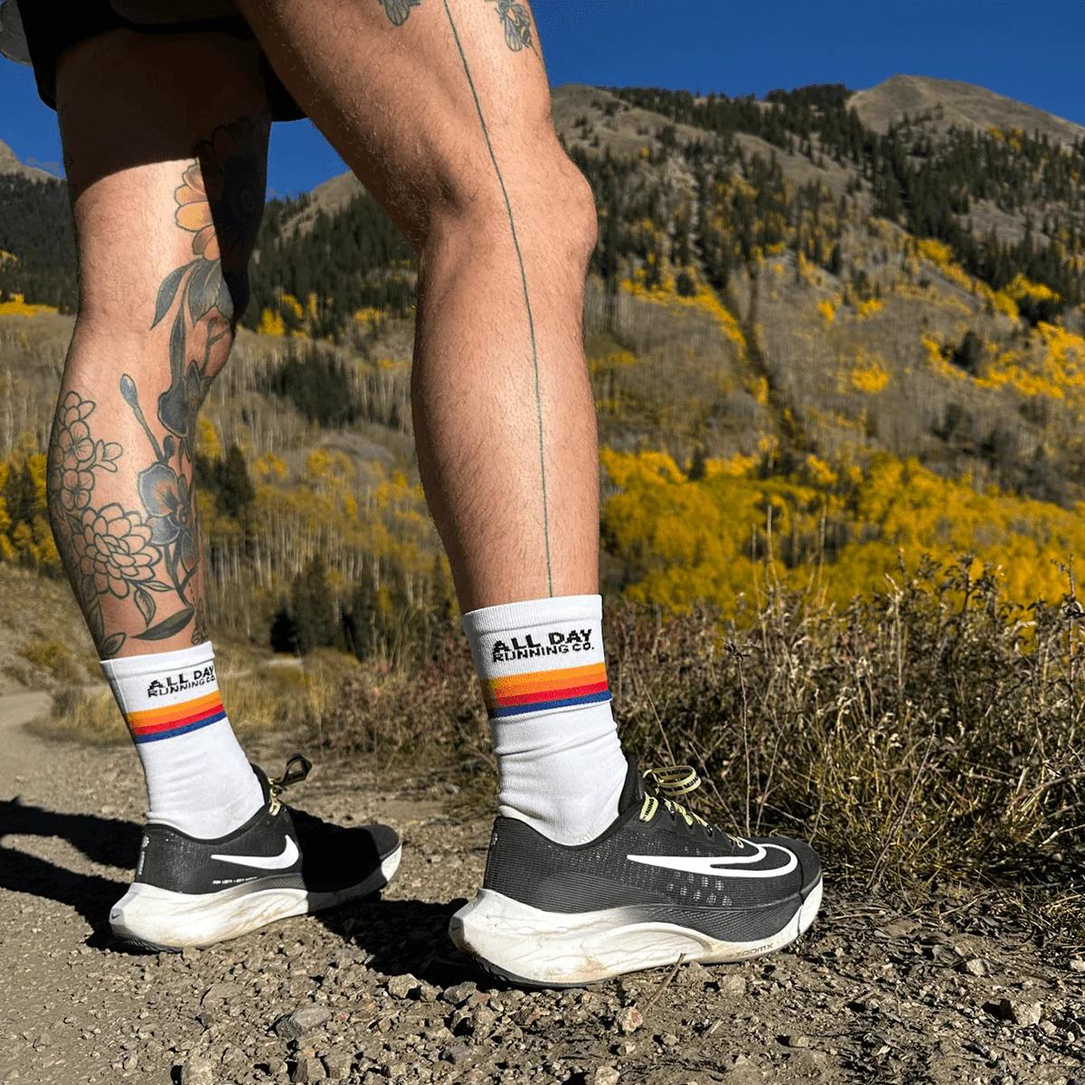nike logo: (612, 832, 814, 904), (197, 832, 322, 889)
sock logo: (472, 619, 631, 814), (110, 651, 260, 828)
